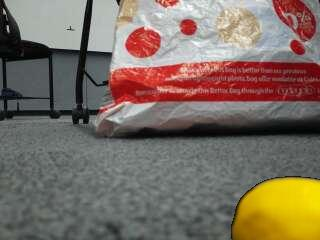lemon: (233, 176, 320, 238)
